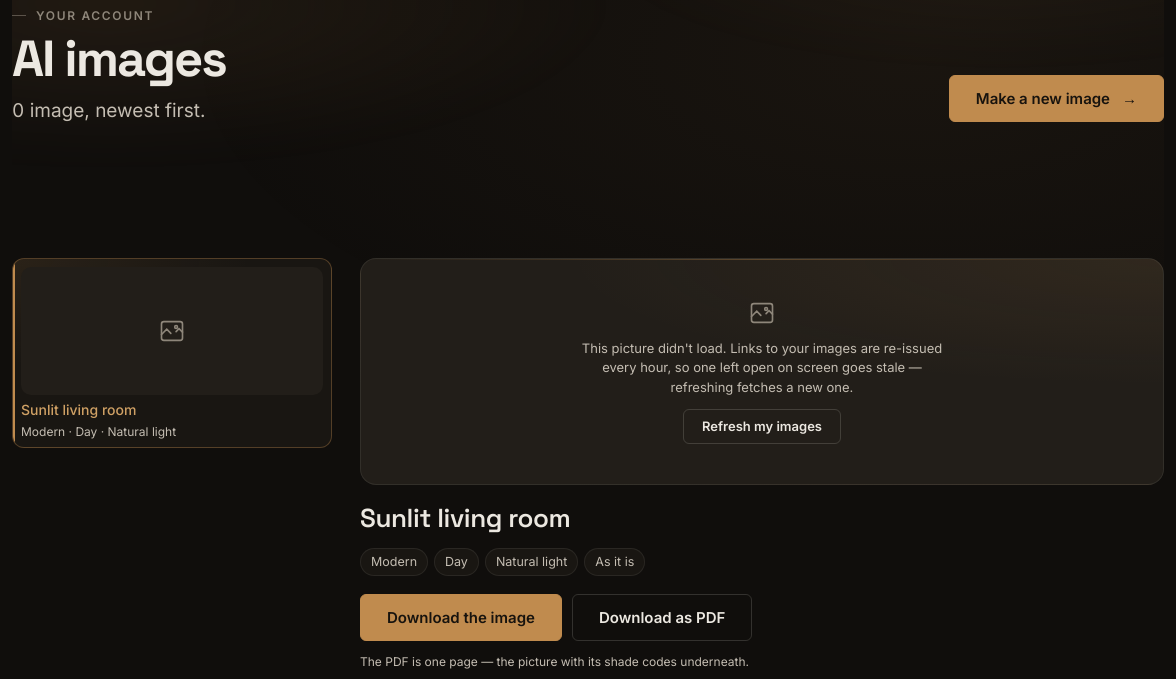
Test: AiImages › names the expiry, and offers the refresh, when an image stops loading
Expected: the text "re-issued every hour" is shown, [582, 340, 942, 395]
// And the refresh actually re-signs them, rather than telling the reader to reload.
Click the button "Refresh my images" at coordinates (762, 427), box [683, 409, 841, 444]
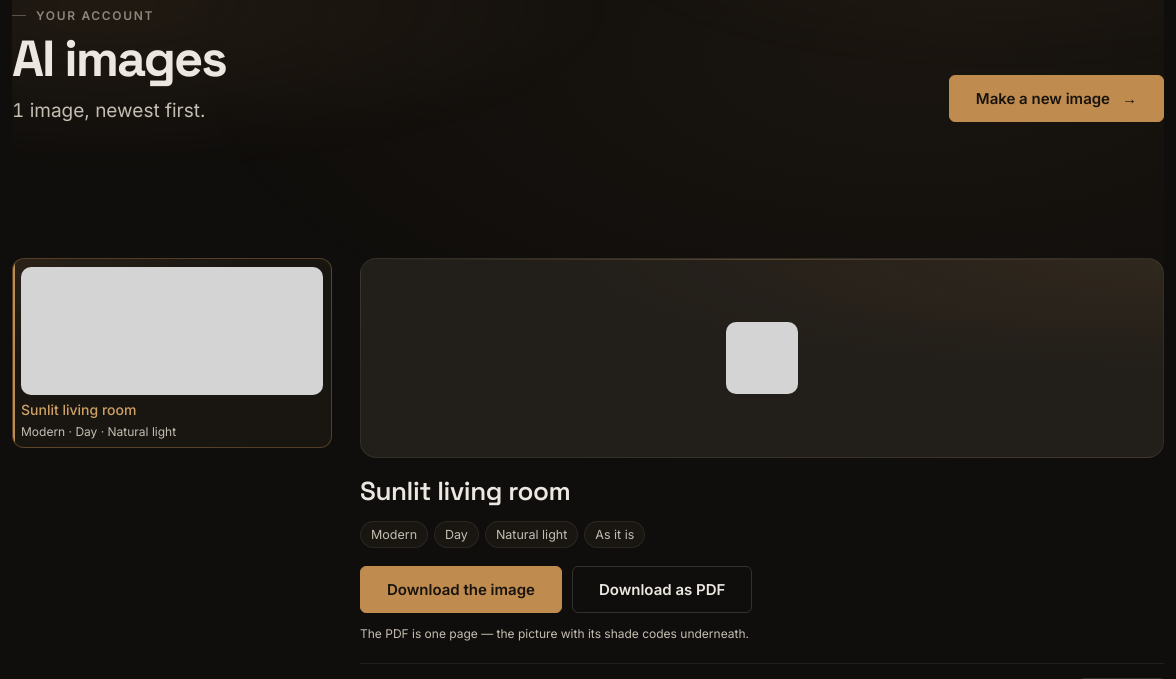
Expected: the text "re-issued every hour" is gone
